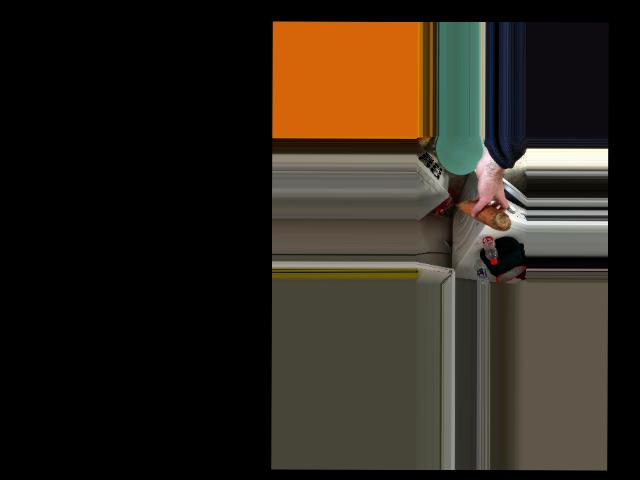sweet_potato: (459, 195, 507, 233)
